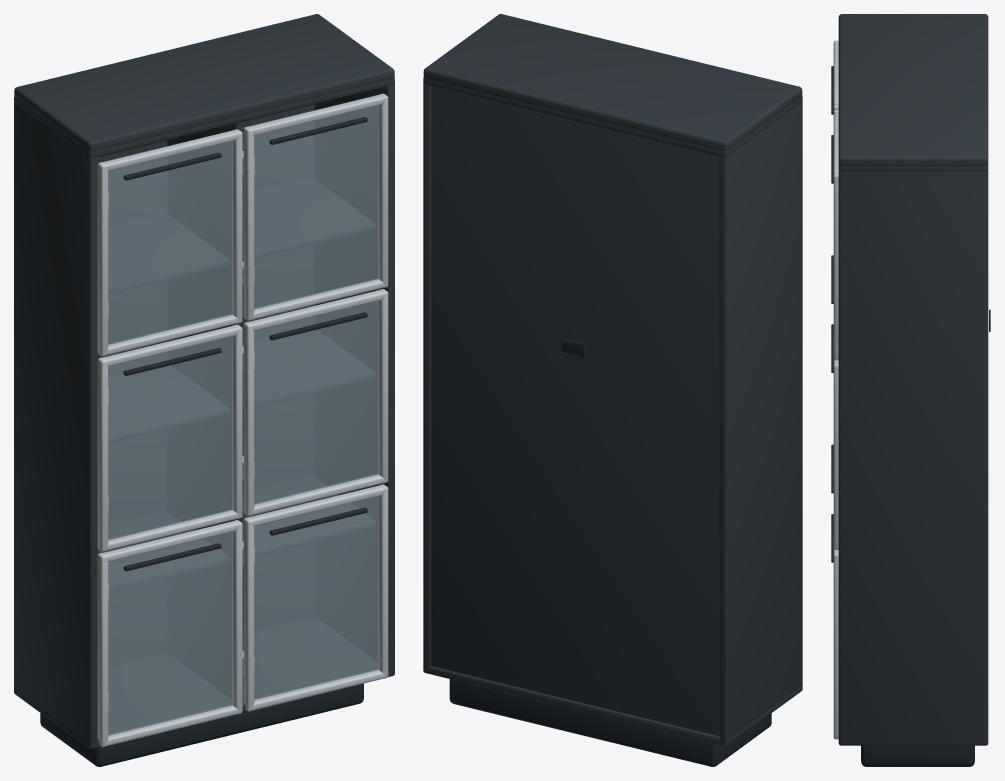
The model's file is glass-display-cabinet.glb.
The picture shows the model from 3 angles, left to right: view 1: azimuth 30°, elevation 25°; view 2: azimuth 150°, elevation 25°; view 3: azimuth 270°, elevation 25°; orthographic projection. The views are drawn at different scales.
Visible parts, largest first — view 1: glass-display-cabinet; view 2: glass-display-cabinet; view 3: glass-display-cabinet.
Part boxes in pixels (x1,y1,x2,y2): glass-display-cabinet: [14, 14, 394, 766]; glass-display-cabinet: [423, 14, 802, 766]; glass-display-cabinet: [831, 14, 990, 766].
Size of the model in its own units: 0.9 by 1.8 by 0.42.
